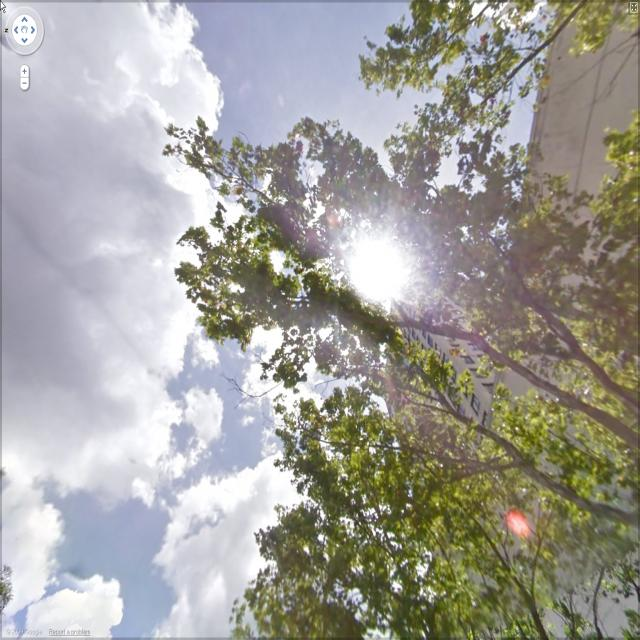b_2: (365, 287, 632, 640), (508, 11, 638, 320)
